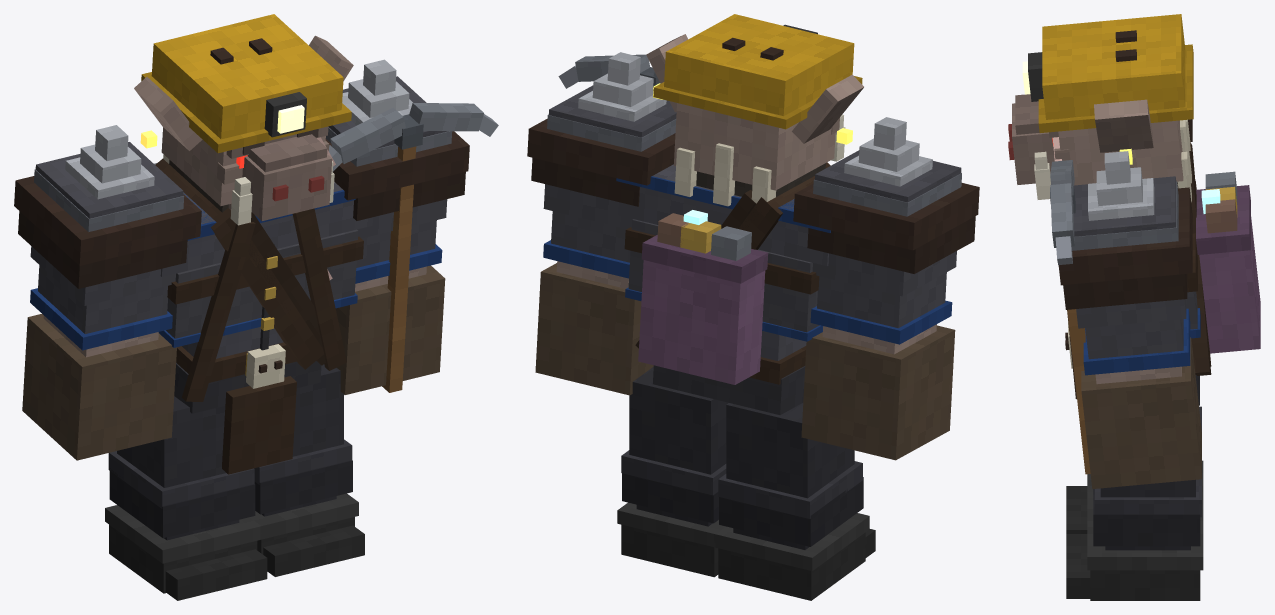
The model's file is orc_mineur_v3.glb.
3 renders of one model, left to right at view 1: azimuth 30°, elevation 25°; view 2: azimuth 150°, elevation 25°; view 3: azimuth 270°, elevation 25°, orthographic.
Parts seen in each view (by area): view 1: ArmR, Torso, Head, ArmL, LegR, LegL, HandL; view 2: ArmR, Torso, ArmL, Head, LegR, LegL, HandL; view 3: ArmL, Head, LegL, Torso, HandL, LegR.
Boxes of the visible parts, left/top/right/bottom form: ArmR: left=14, top=125, right=201, bottom=460; Torso: left=154, top=154, right=372, bottom=474; Head: left=134, top=14, right=353, bottom=225; ArmL: left=325, top=59, right=469, bottom=394; LegR: left=105, top=396, right=267, bottom=600; LegL: left=249, top=364, right=364, bottom=576; HandL: left=329, top=103, right=498, bottom=392; ArmR: left=793, top=117, right=979, bottom=460; Torso: left=616, top=143, right=830, bottom=414; ArmL: left=527, top=52, right=676, bottom=395; Head: left=646, top=14, right=863, bottom=196; LegR: left=714, top=403, right=875, bottom=600; LegL: left=617, top=367, right=728, bottom=577; HandL: left=558, top=54, right=660, bottom=90; ArmL: left=1058, top=151, right=1201, bottom=488; Head: left=1008, top=14, right=1193, bottom=199; LegL: left=1066, top=479, right=1203, bottom=600; Torso: left=1065, top=119, right=1260, bottom=405; HandL: left=1050, top=160, right=1090, bottom=474; LegR: left=1066, top=406, right=1203, bottom=533.
Size of the model in its own units: 1.54 by 1.8 by 0.8043.
49 materials, 49 textured.
